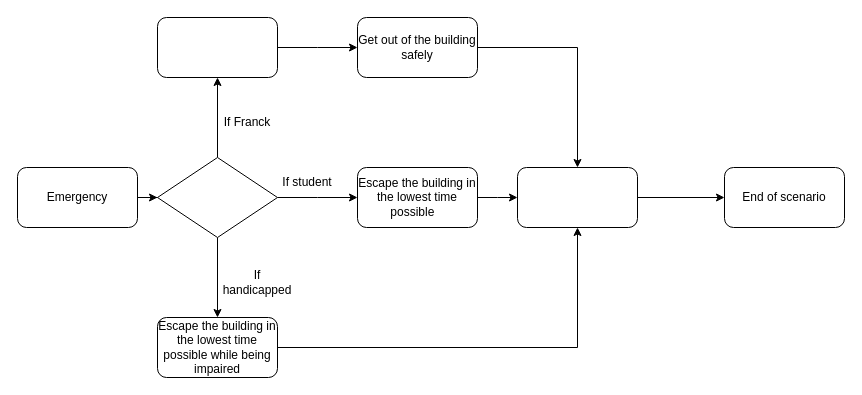
This 862x395 diagram has some shape labels left out. The shapes that lost their labels are listed below. From the top down, each one's centre as x and y in pixels, then its label:
At (217,47): "Observe that everyone gets out safely".
At (217,197): "Big number of students together".
At (577,197): "Receive the total amount of time it took".
